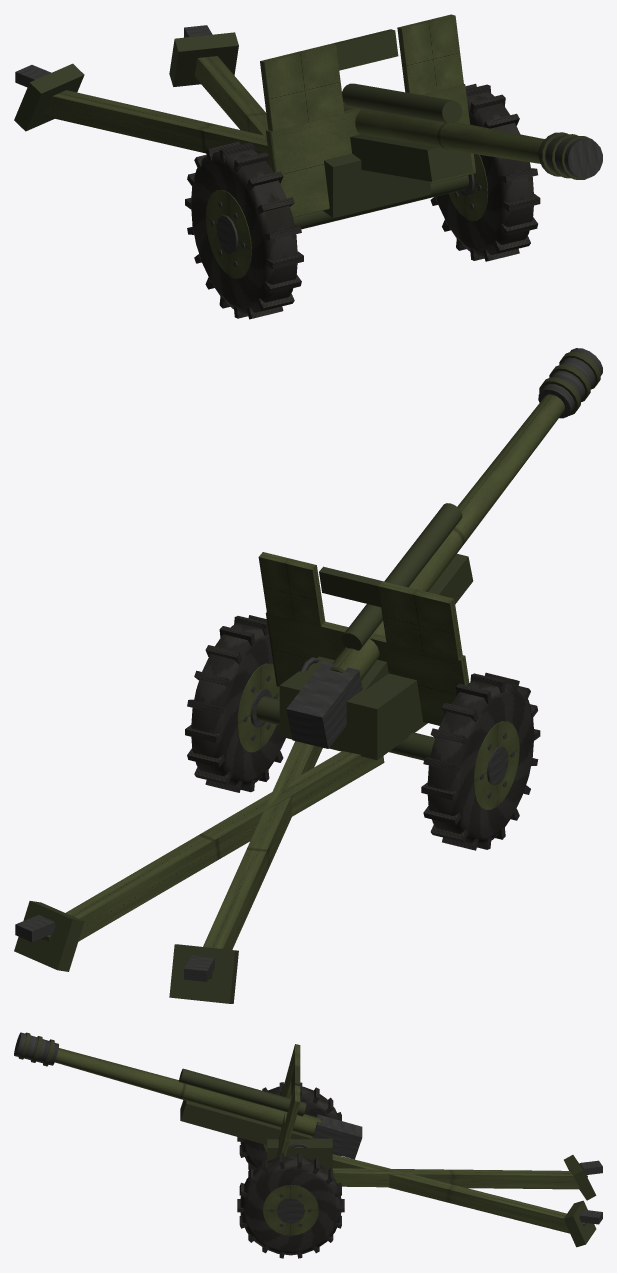
File: howitzer_m30_122mm_lod0.glb
The picture shows the model from 3 angles, top to bottom: view 1: azimuth 30°, elevation 25°; view 2: azimuth 150°, elevation 25°; view 3: azimuth 270°, elevation 25°; orthographic projection. The views are drawn at different scales.
Parts seen in each view (by area): view 1: Howitzer_122mm_M30; view 2: Howitzer_122mm_M30; view 3: Howitzer_122mm_M30.
Part boxes in pixels (<box>): Howitzer_122mm_M30: <box>14,14,602,319</box>; Howitzer_122mm_M30: <box>14,348,602,1003</box>; Howitzer_122mm_M30: <box>14,1032,602,1258</box>.
Bounding box in the file's own units: 2.12 × 2.25 × 6.48.
4 materials, 3 textured.
